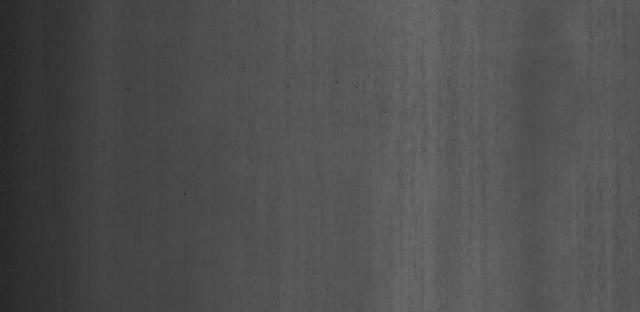silk_spot: (362, 33, 486, 291)
